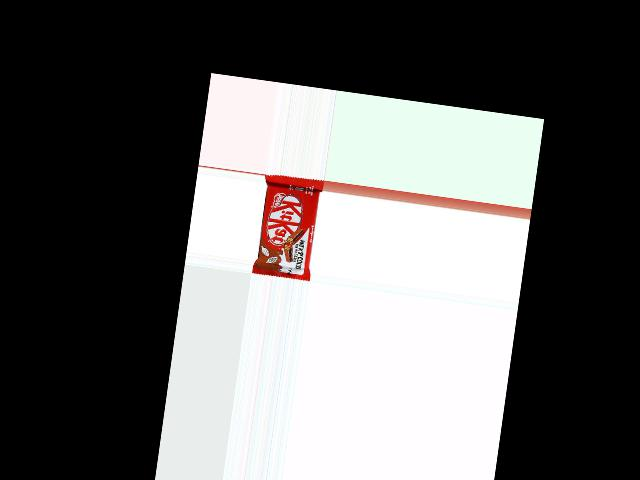chocolate: (251, 173, 324, 282)
